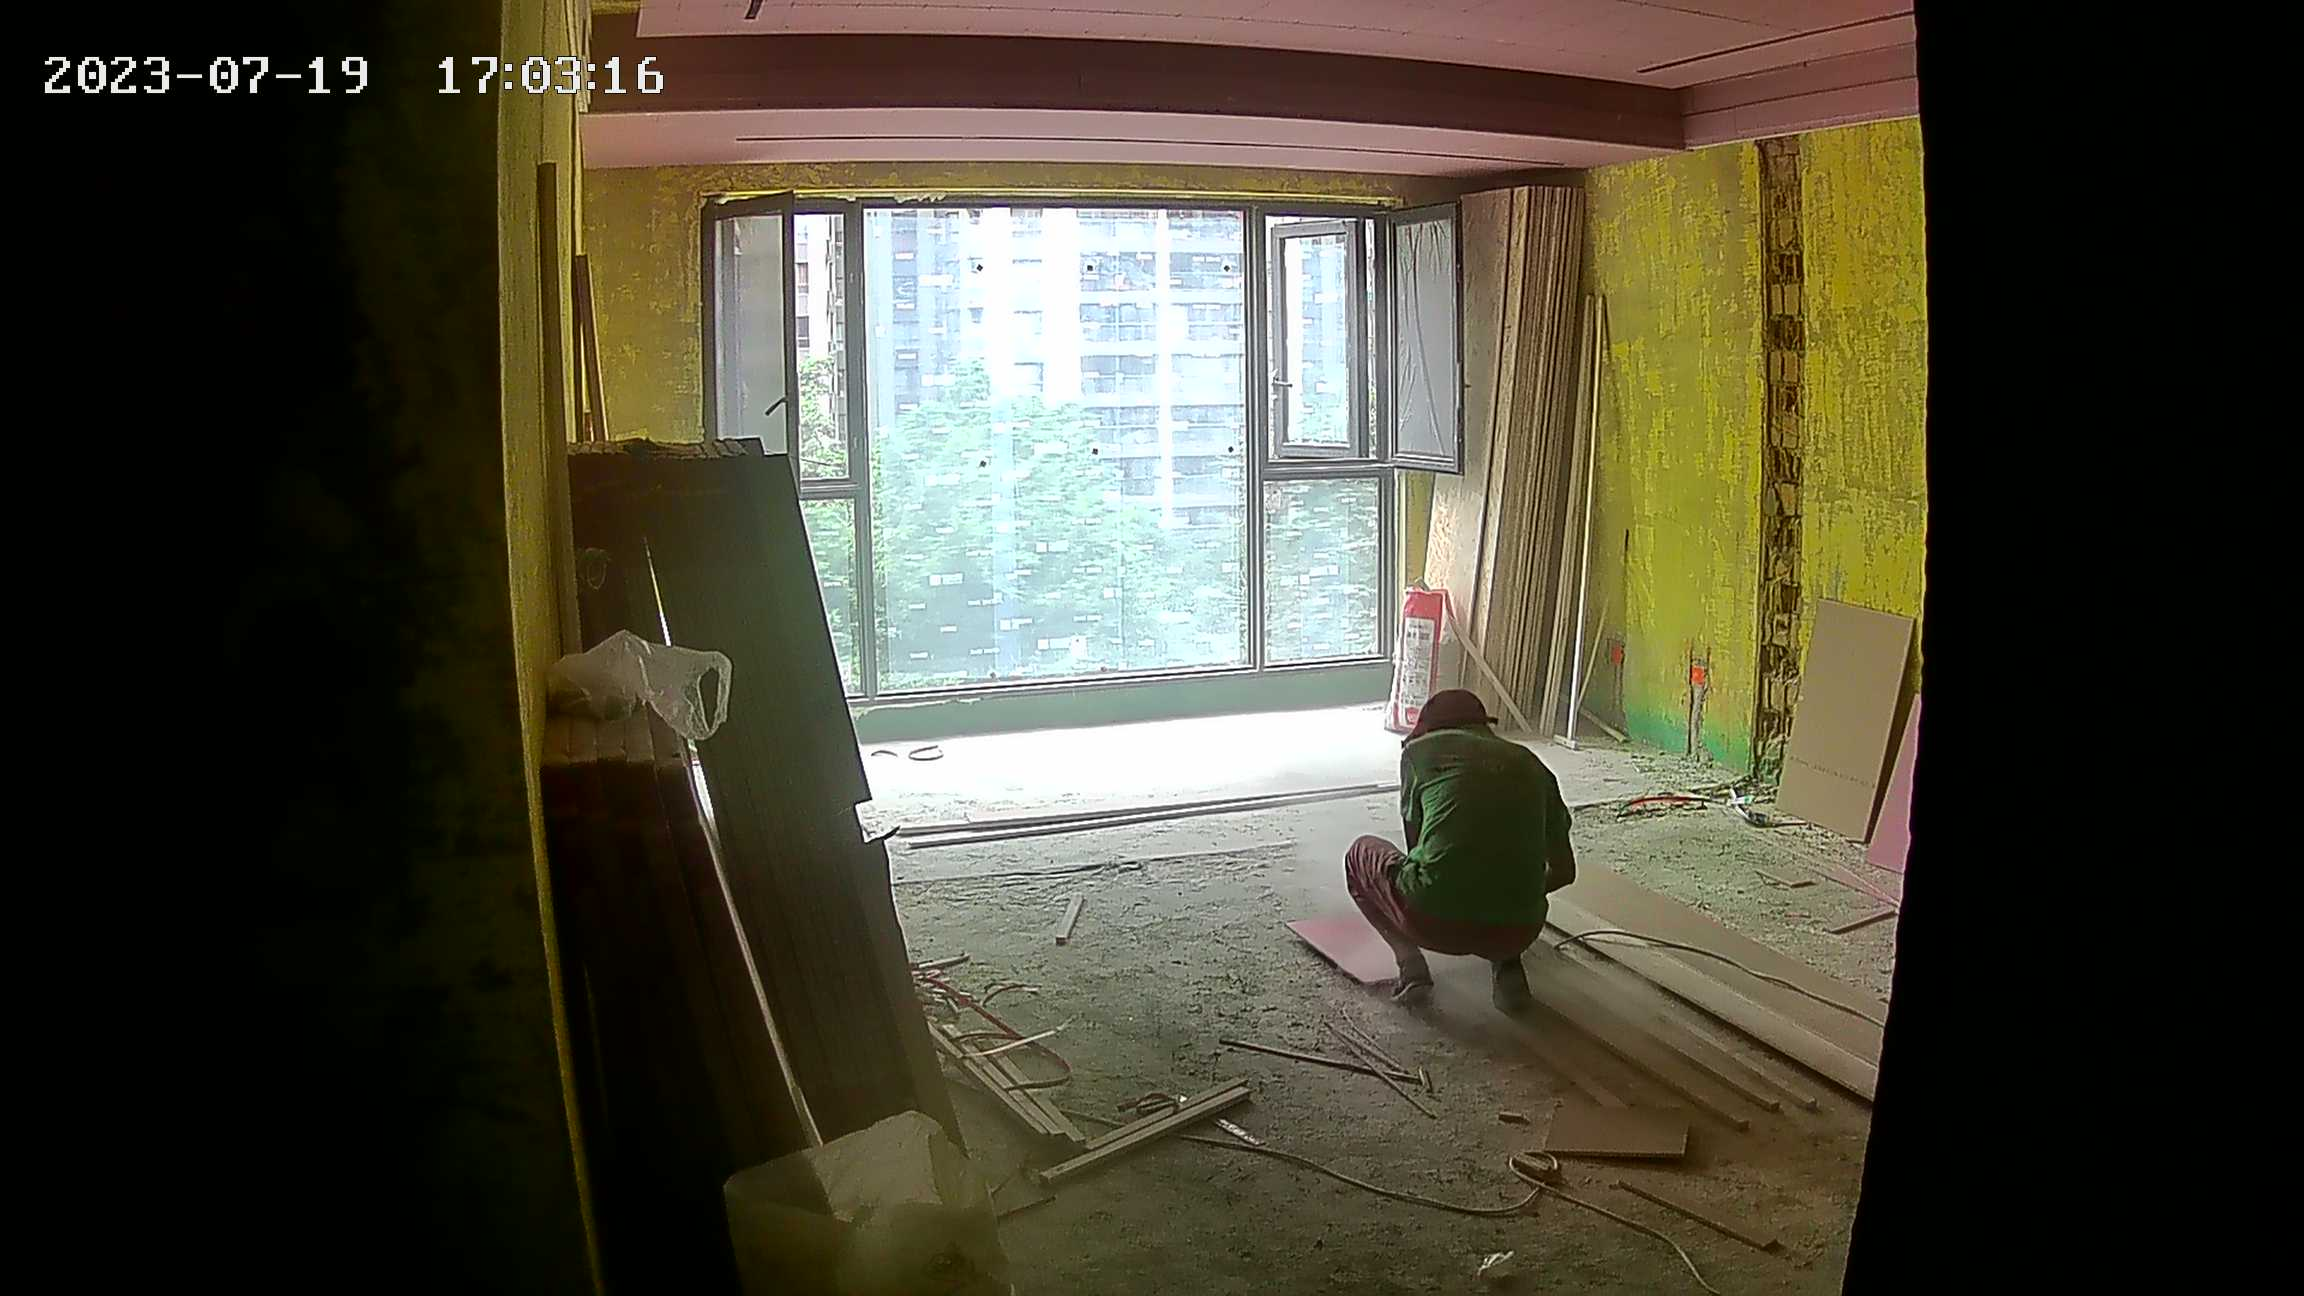people: (1344, 690, 1581, 1026)
window: (702, 190, 1400, 684)
